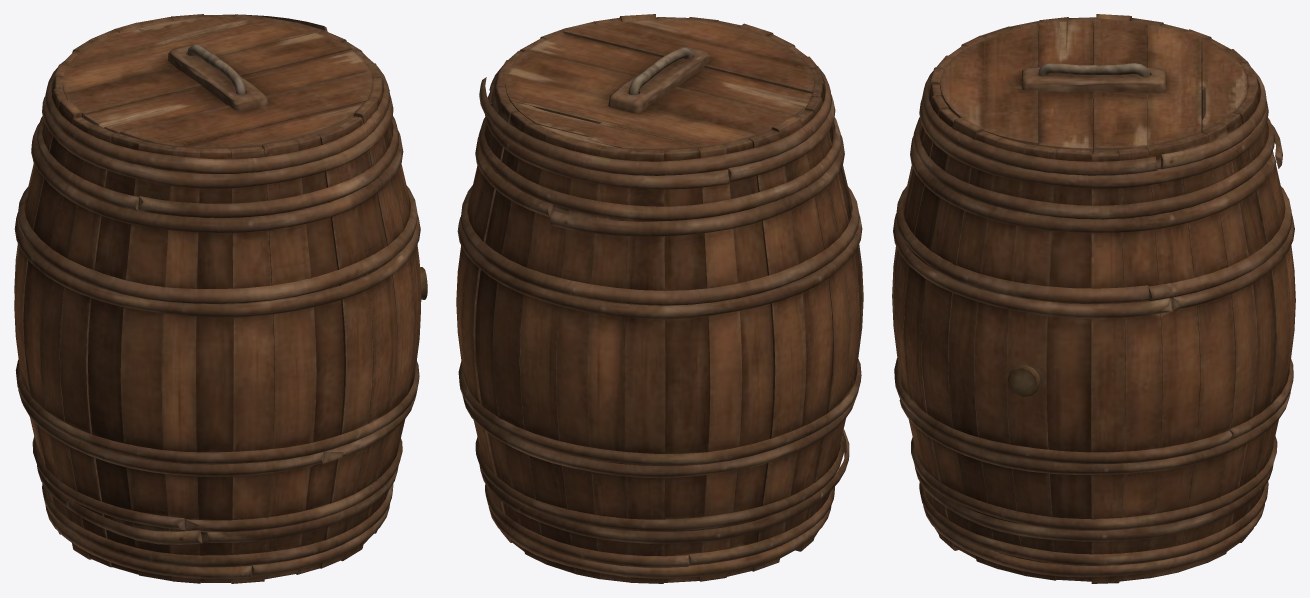
The model's file is wooden_barrels_01_b.glb.
3 renders of one model, left to right at view 1: azimuth 30°, elevation 25°; view 2: azimuth 150°, elevation 25°; view 3: azimuth 270°, elevation 25°, orthographic.
Parts seen in each view (by area): view 1: wooden_barrels_01_b; view 2: wooden_barrels_01_b; view 3: wooden_barrels_01_b.
Part boxes in pixels (x1,y1,x2,y2): wooden_barrels_01_b: [14, 14, 427, 583]; wooden_barrels_01_b: [456, 14, 863, 583]; wooden_barrels_01_b: [892, 14, 1295, 583].
Size of the model in its own units: 0.743 by 0.9199 by 0.743.
Materials: 1 (1 with a texture image).
